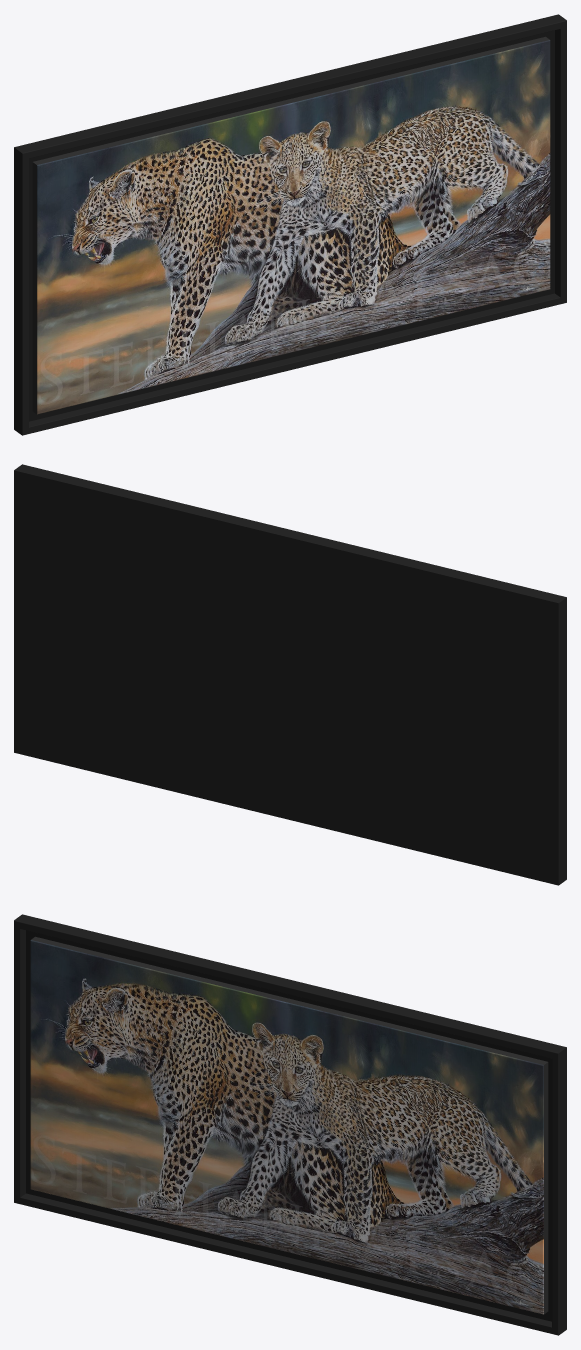
File: tableau-leopards-peinture-grand-54e416d7.glb
3 renders of one model, top to bottom at view 1: azimuth 30°, elevation 25°; view 2: azimuth 150°, elevation 25°; view 3: azimuth 330°, elevation 25°, orthographic.
Parts seen in each view (by area): view 1: Painting; view 2: Painting; view 3: Painting.
Part boxes in pixels (x1=…): Painting: x1=14, y1=14, x2=566, y2=435; Painting: x1=14, y1=464, x2=566, y2=885; Painting: x1=14, y1=914, x2=566, y2=1335.
Bounding box in the file's own units: 1.49 × 0.736 × 0.04.
4 materials, 2 textured.
